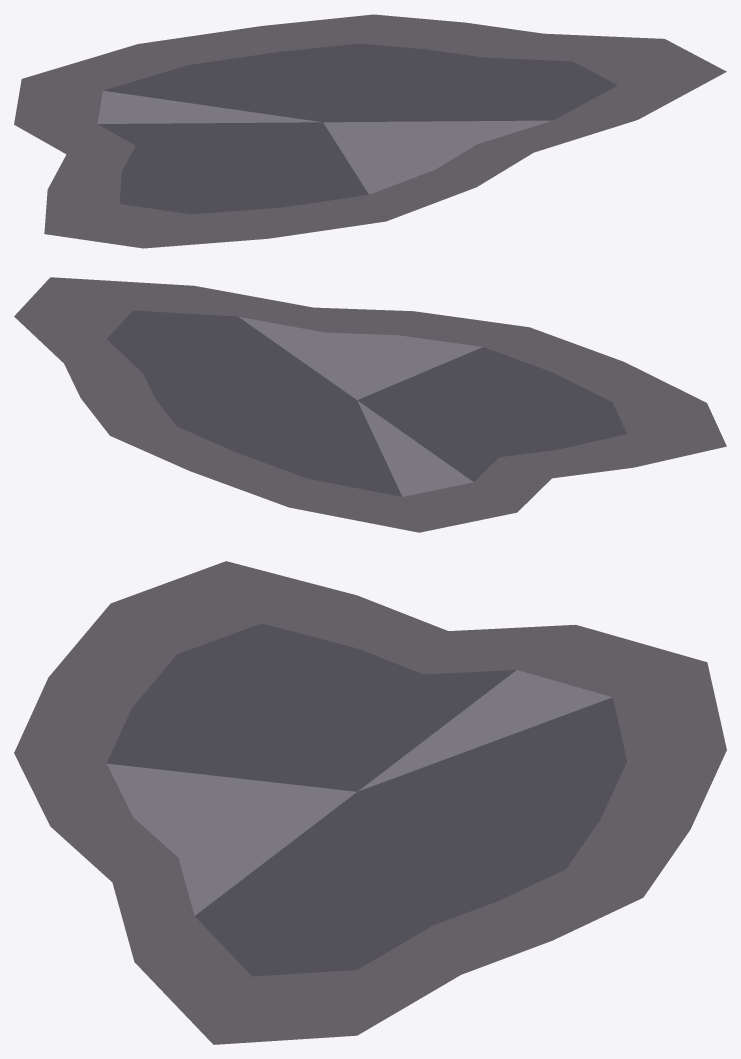
Rendered from oil-slick-a.glb.
3 renders of one model, top to bottom at view 1: azimuth 30°, elevation 25°; view 2: azimuth 150°, elevation 25°; view 3: azimuth 270°, elevation 25°, orthographic. The views are drawn at different scales.
Visible parts, largest first — view 1: oil-slick-a; view 2: oil-slick-a; view 3: oil-slick-a.
Part boxes in pixels (<box>): oil-slick-a: <box>14,14,726,248</box>; oil-slick-a: <box>14,277,726,532</box>; oil-slick-a: <box>14,561,726,1044</box>.
Size of the model in its own units: 3.03 by 0 by 1.89.
Materials: 1 (1 with a texture image).
